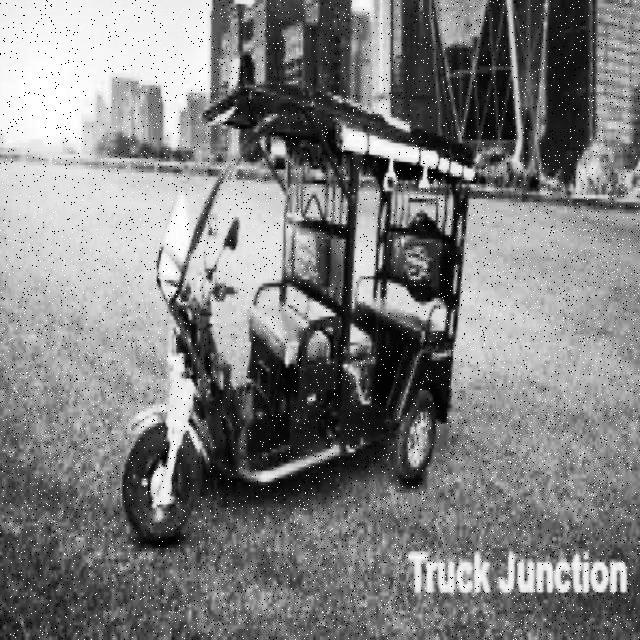Toto: (122, 76, 480, 556)
